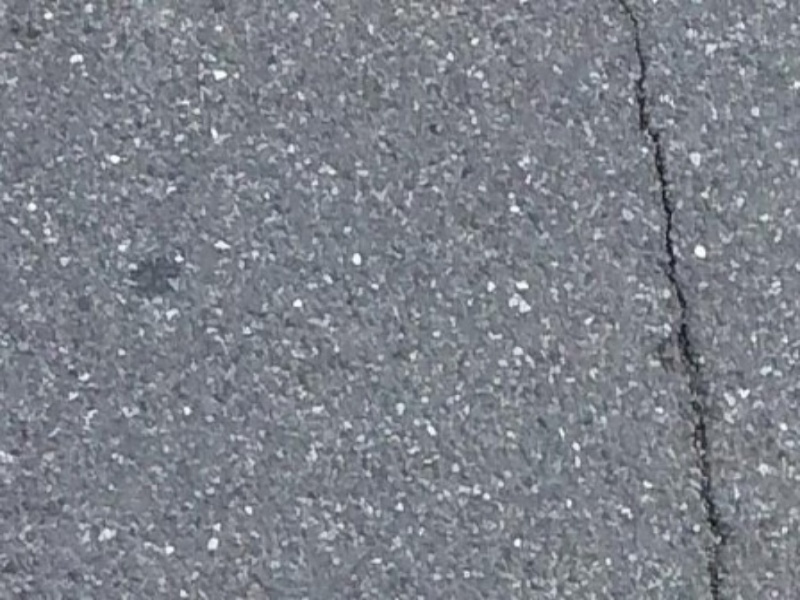crack: (612, 6, 721, 594)
